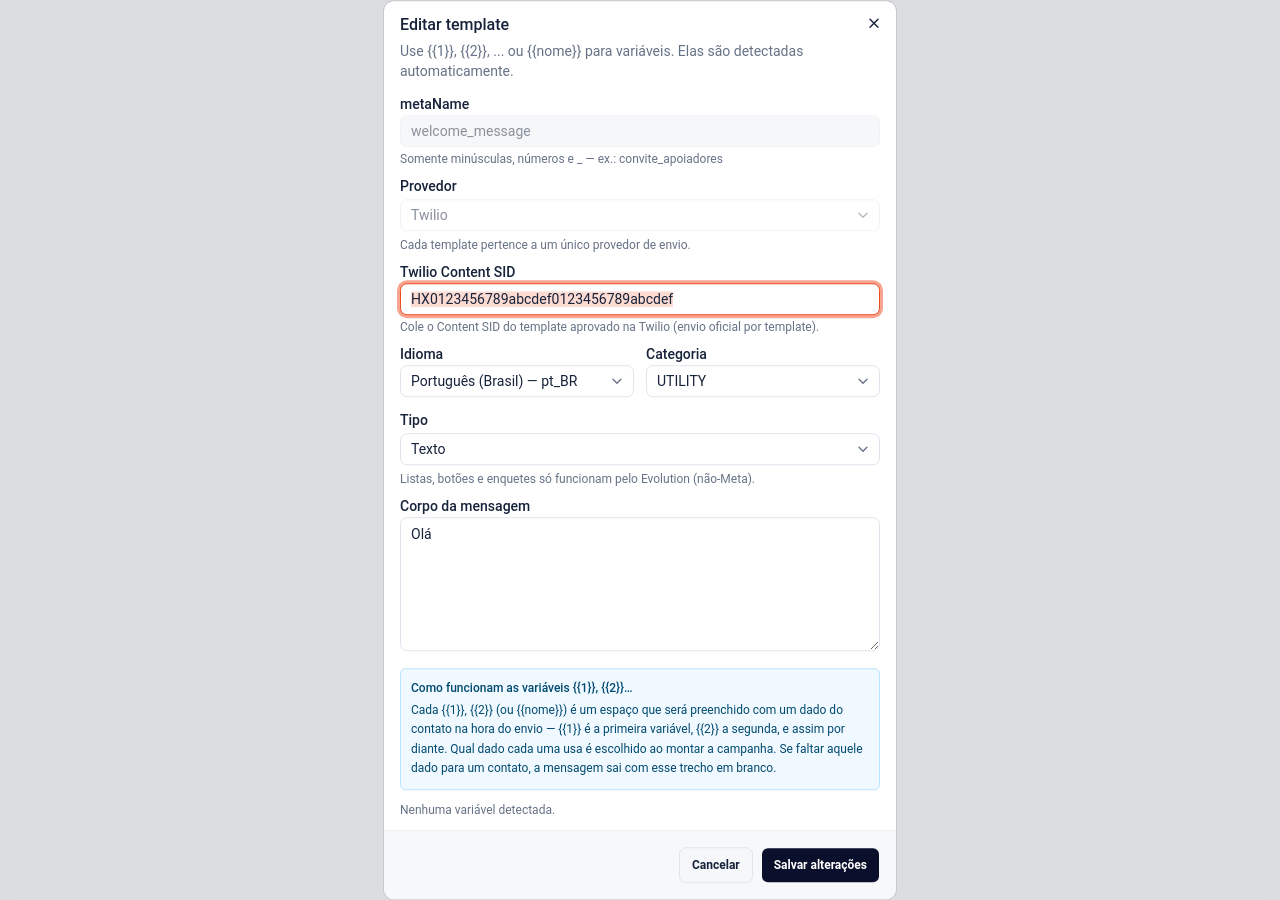
Test case: TemplateFormDialog — TWILIO requires Content SID (blocked before hitting the backend) › blocks submit with a PT field error when editing a TWILIO template with an empty Content SID
Clear the field labelled "Twilio Content SID" at coordinates (640, 299), box top-left (400, 283), bottom-right (880, 315)
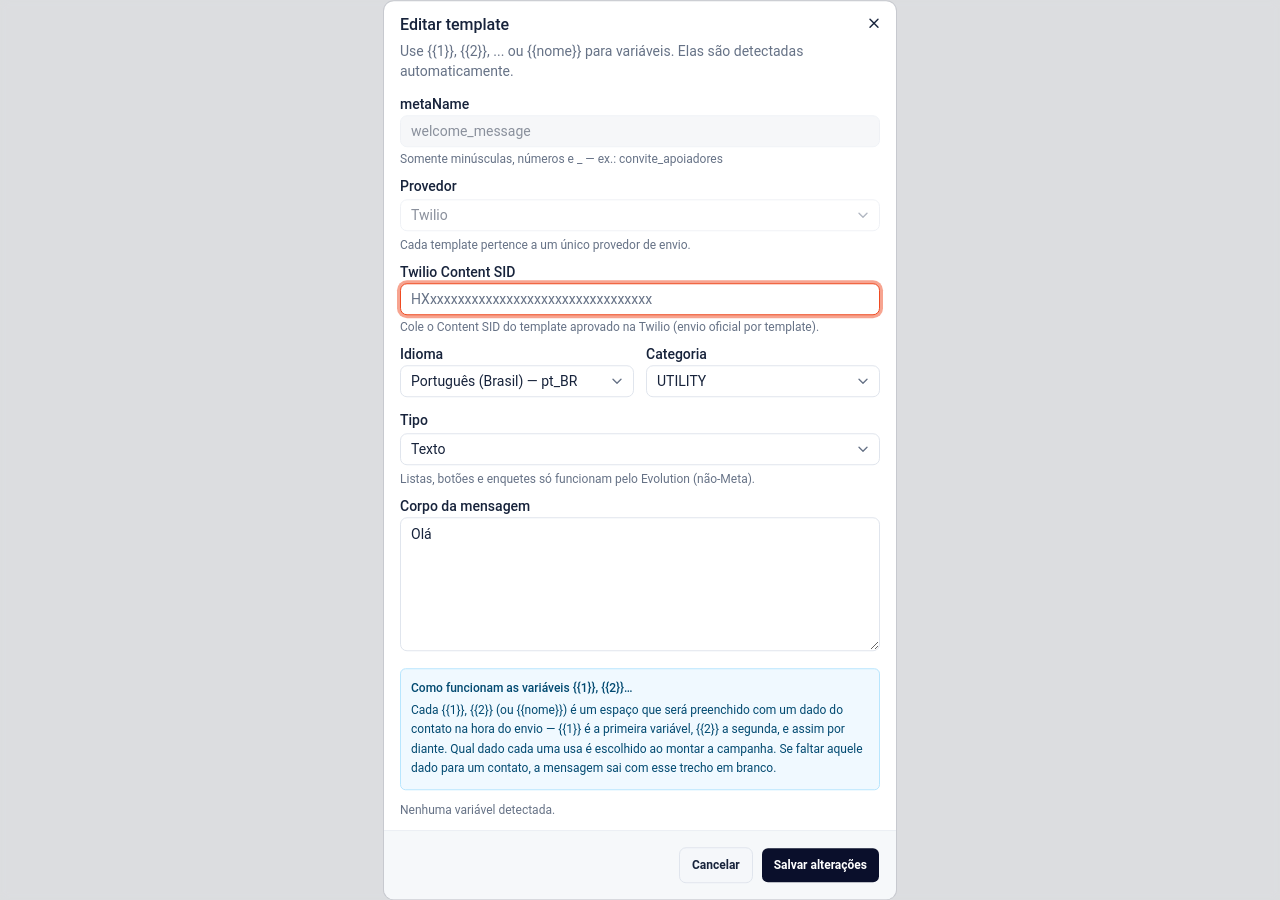
Click the button "Salvar alterações".
click(820, 865)  # box top-left (761, 847), bottom-right (880, 883)
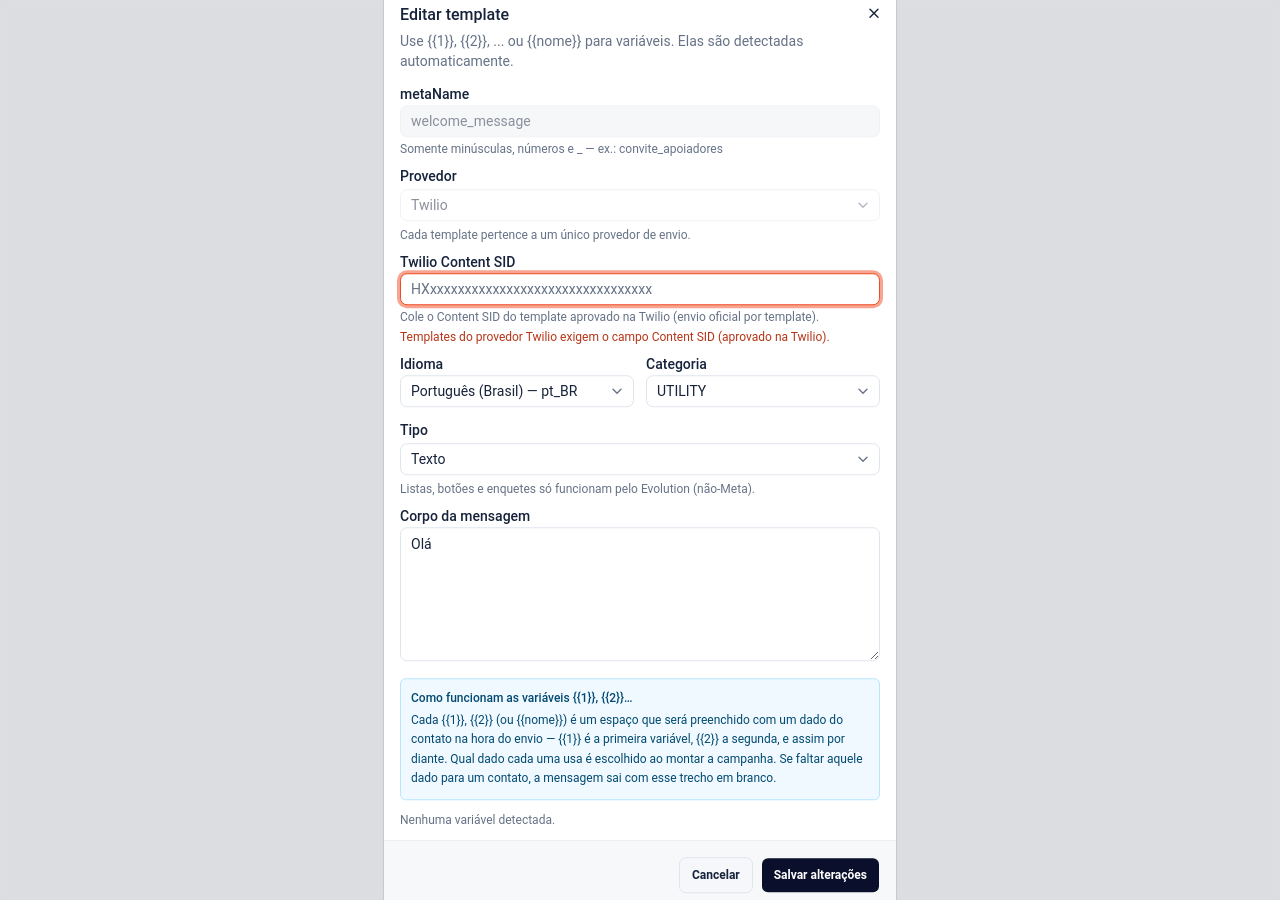
Expected: the text "Templates do provedor Twilio exigem o campo Content SID" is shown, top-left (400, 330), bottom-right (830, 344)
